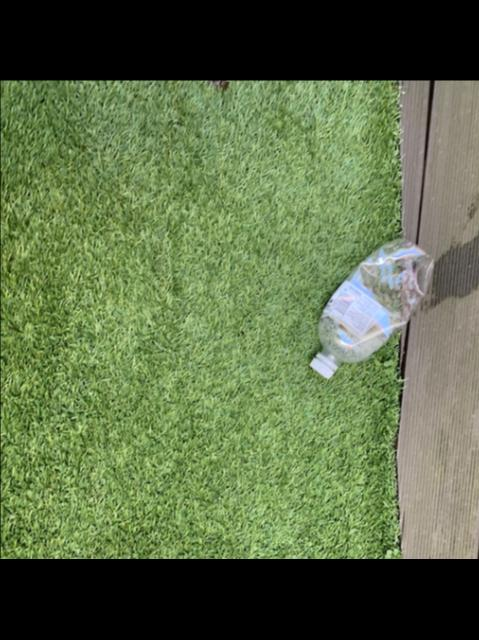plastic: (311, 238, 434, 377)
